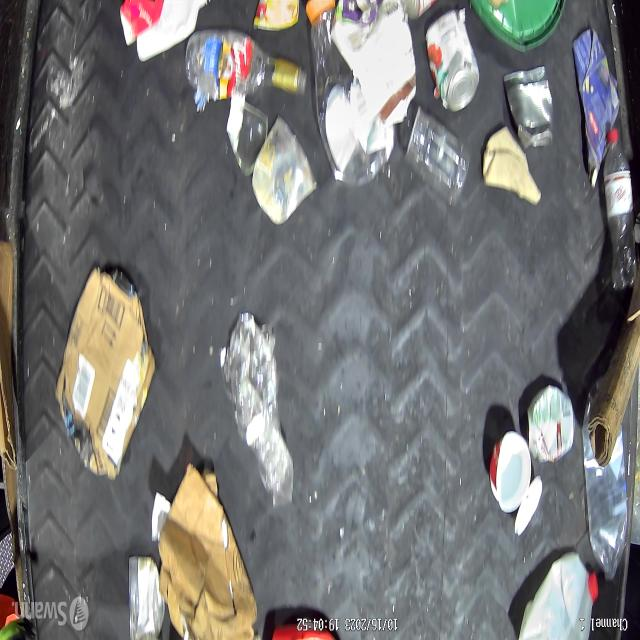can: (424, 9, 481, 115), (502, 64, 556, 149), (524, 380, 577, 466), (126, 552, 168, 640)
milk_jug: (517, 550, 600, 640)
plastic_bottle: (581, 382, 625, 584), (184, 30, 309, 100), (600, 126, 640, 292)
